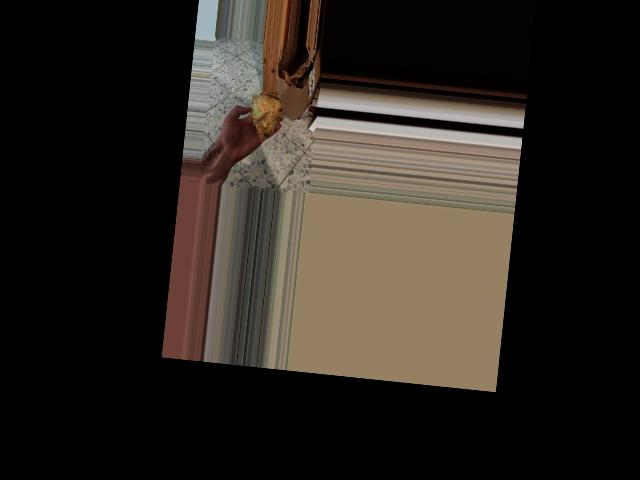onion: (241, 88, 286, 143)
